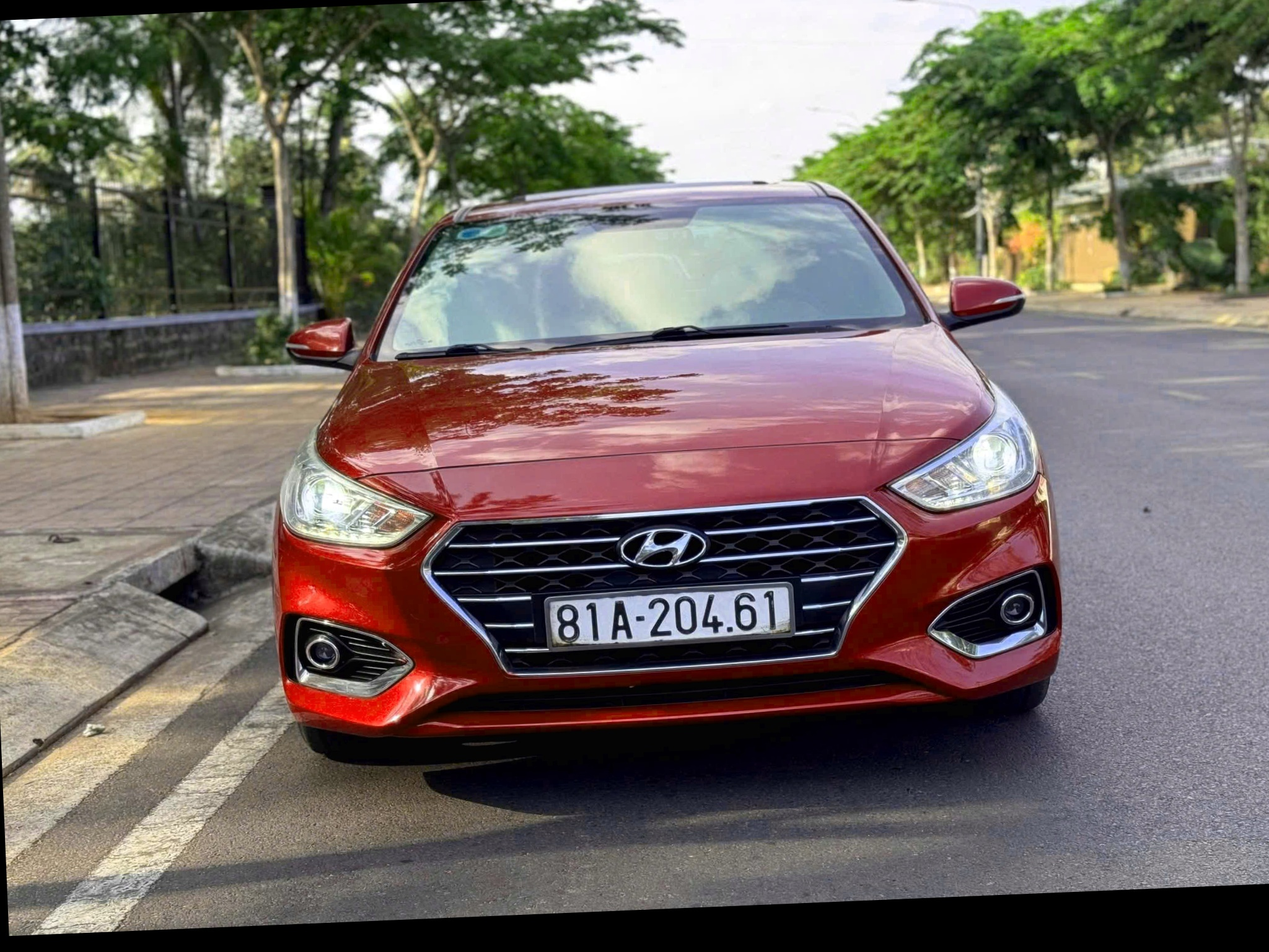Bien-so: (542, 583, 798, 643)
